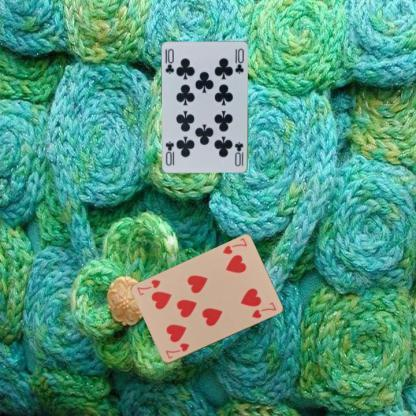10c: (163, 46, 175, 76), (233, 139, 244, 168)
7h: (220, 235, 249, 256), (163, 340, 191, 360)
